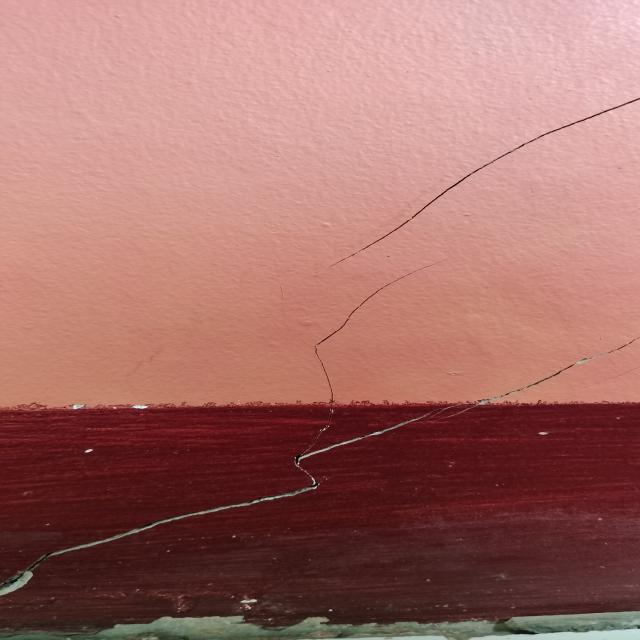Crack: (3, 269, 640, 594), (321, 96, 640, 266)
